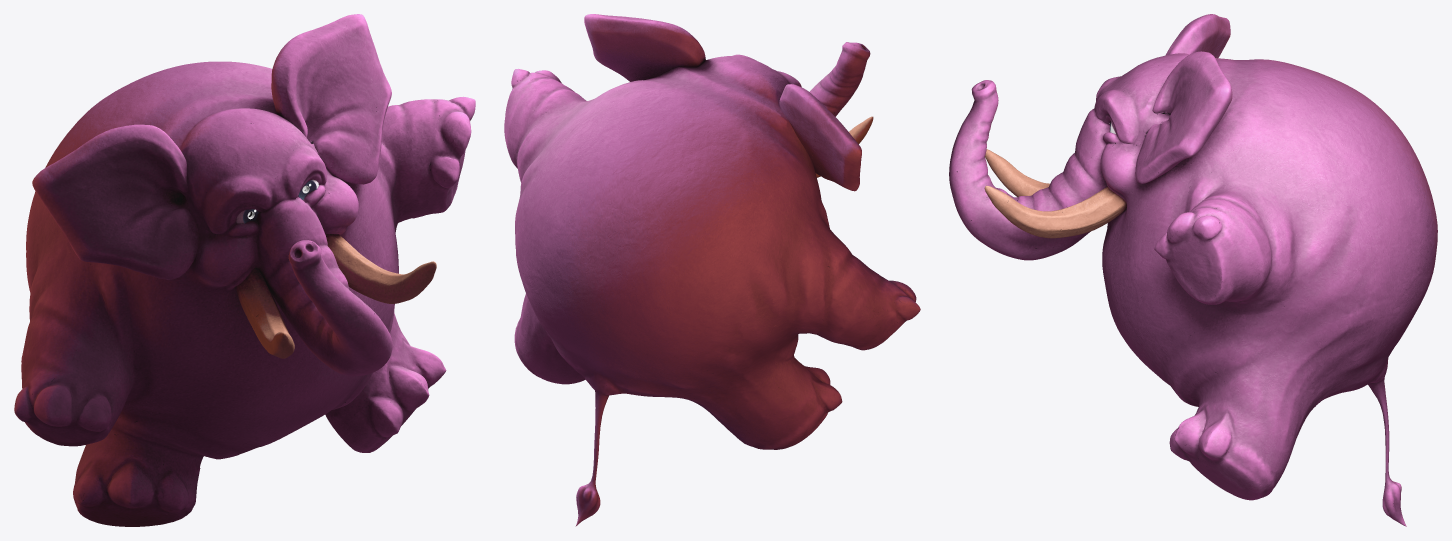
The model's file is elephant.glb.
3 renders of one model, left to right at view 1: azimuth 30°, elevation 25°; view 2: azimuth 150°, elevation 25°; view 3: azimuth 270°, elevation 25°, orthographic. The views are drawn at different scales.
Visible parts, largest first — view 1: body_0; view 2: body_0; view 3: body_0.
Part boxes in pixels (x1,y1,x2,y2): body_0: (14, 14, 475, 526); body_0: (504, 14, 920, 526); body_0: (949, 14, 1437, 526).
Size of the model in its own units: 4.28 by 4.54 by 4.21.
Materials: 6 (4 with a texture image).
